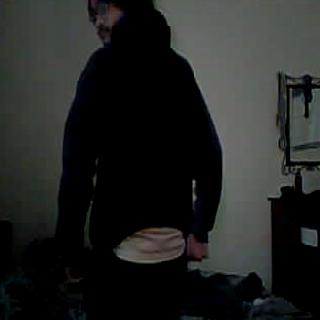Navy Sweatpants: (84, 249, 190, 320)
